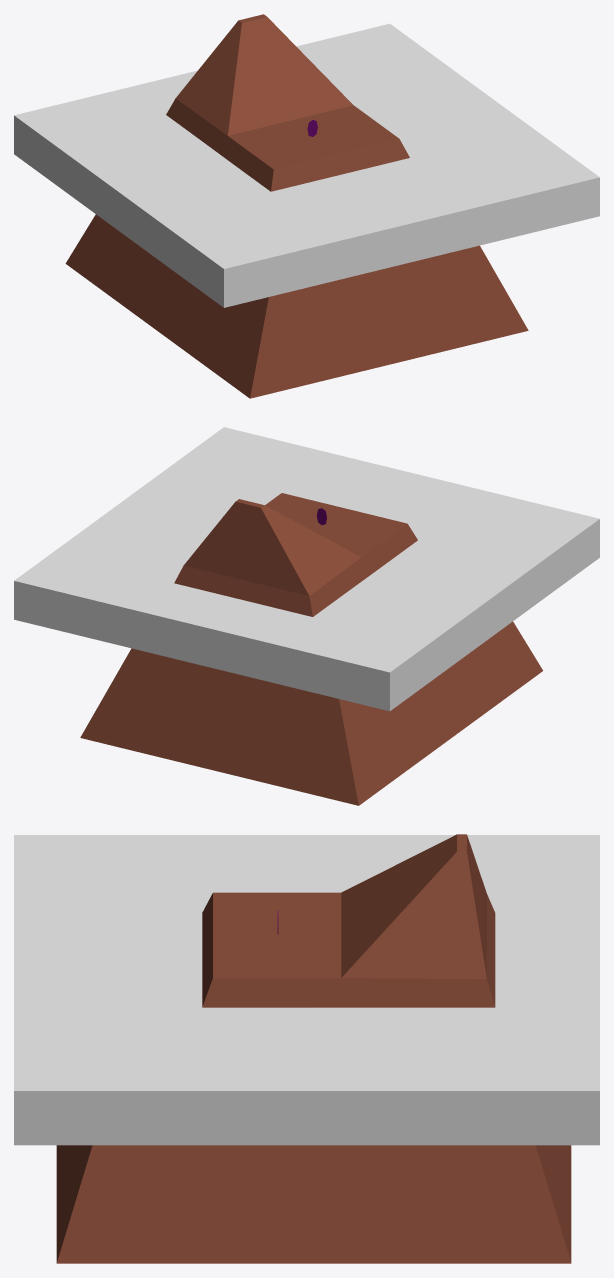
The model's file is ZonaMontanha.fbx.
3 renders of one model, top to bottom at view 1: azimuth 30°, elevation 25°; view 2: azimuth 150°, elevation 25°; view 3: azimuth 270°, elevation 25°, orthographic. The views are drawn at different scales.
Parts seen in each view (by area): view 1: Cube.340, Cube.325; view 2: Cube.340, Cube.325; view 3: Cube.340, Cube.325.
Part boxes in pixels (x1,y1,x2,y2): Cube.340: (14, 23, 599, 307); Cube.325: (65, 14, 528, 398); Cube.340: (14, 427, 599, 711); Cube.325: (80, 493, 542, 805); Cube.340: (14, 835, 599, 1145); Cube.325: (56, 834, 571, 1263).
Size of the model in its own units: 58514 by 35345 by 56621.
